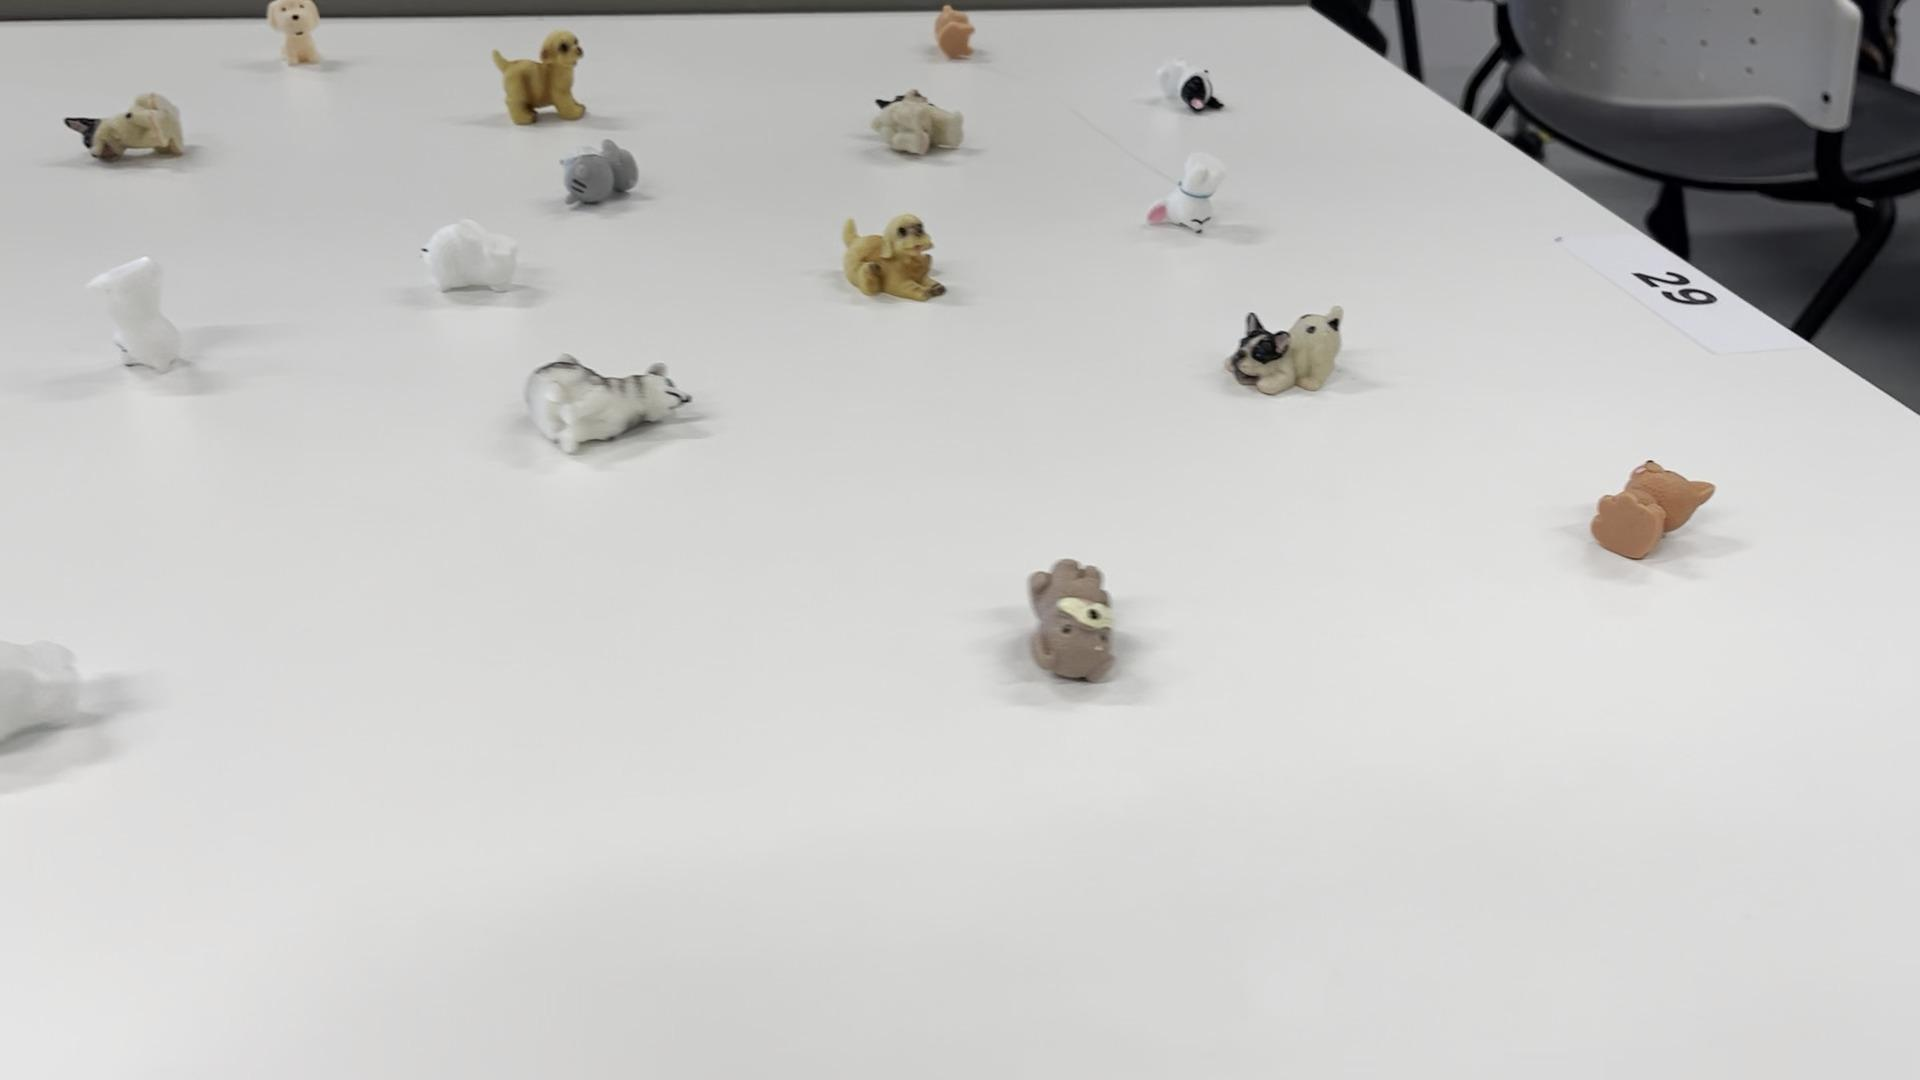pet: (521, 343, 696, 462), (1594, 452, 1714, 588), (835, 208, 965, 322), (1027, 553, 1129, 698), (88, 249, 186, 377), (475, 29, 595, 129), (1228, 302, 1348, 400), (67, 88, 190, 175), (425, 215, 521, 311), (858, 92, 969, 162), (555, 136, 644, 220), (1158, 145, 1218, 247), (907, 9, 1002, 73), (1155, 53, 1241, 111), (261, 0, 326, 71)
